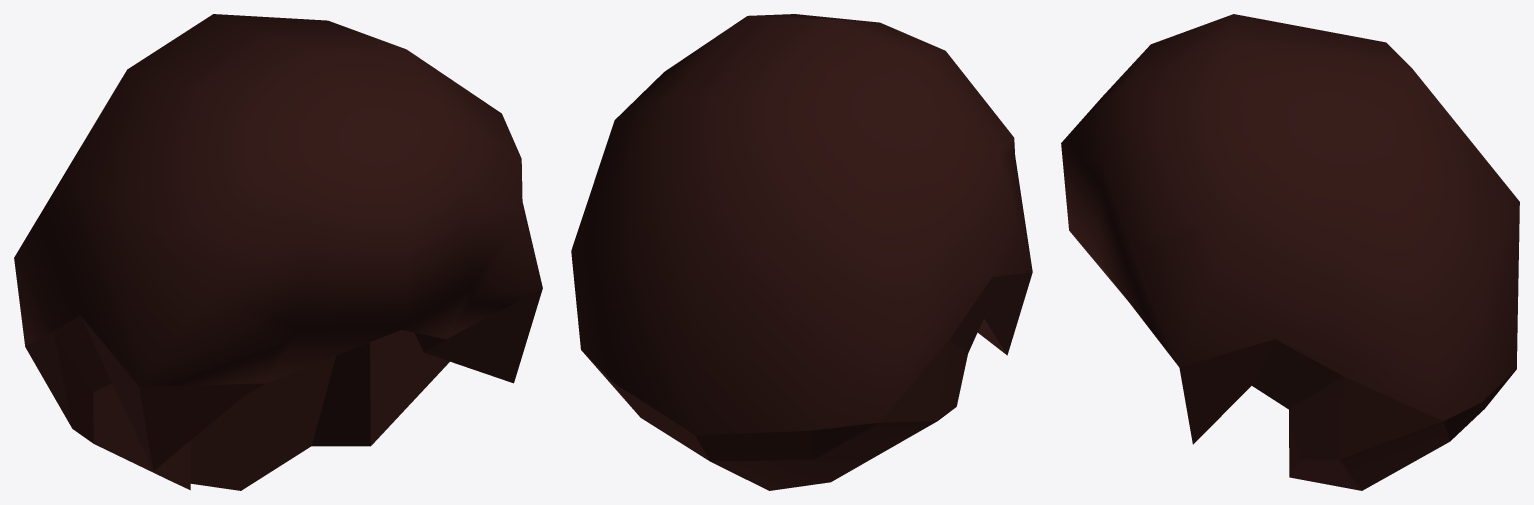
Rendered from HairShortBrown.fbx.
The picture shows the model from 3 angles, left to right: view 1: azimuth 30°, elevation 25°; view 2: azimuth 150°, elevation 25°; view 3: azimuth 270°, elevation 25°; orthographic projection. The views are drawn at different scales.
Visible parts, largest first — view 1: HairShortBrown; view 2: HairShortBrown; view 3: HairShortBrown.
Part boxes in pixels (x1=…): HairShortBrown: x1=14, y1=14, x2=542, y2=490; HairShortBrown: x1=571, y1=14, x2=1032, y2=490; HairShortBrown: x1=1061, y1=14, x2=1519, y2=490.
Bounding box in the file's own units: 51.57 × 57.85 × 54.02.
